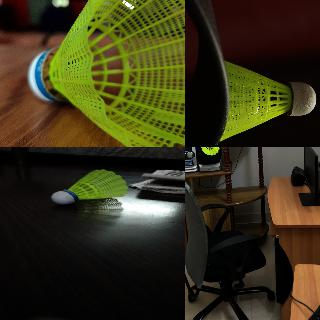shuttlecock: (27, 0, 184, 146), (224, 61, 316, 139), (50, 169, 126, 204), (200, 147, 220, 156)
